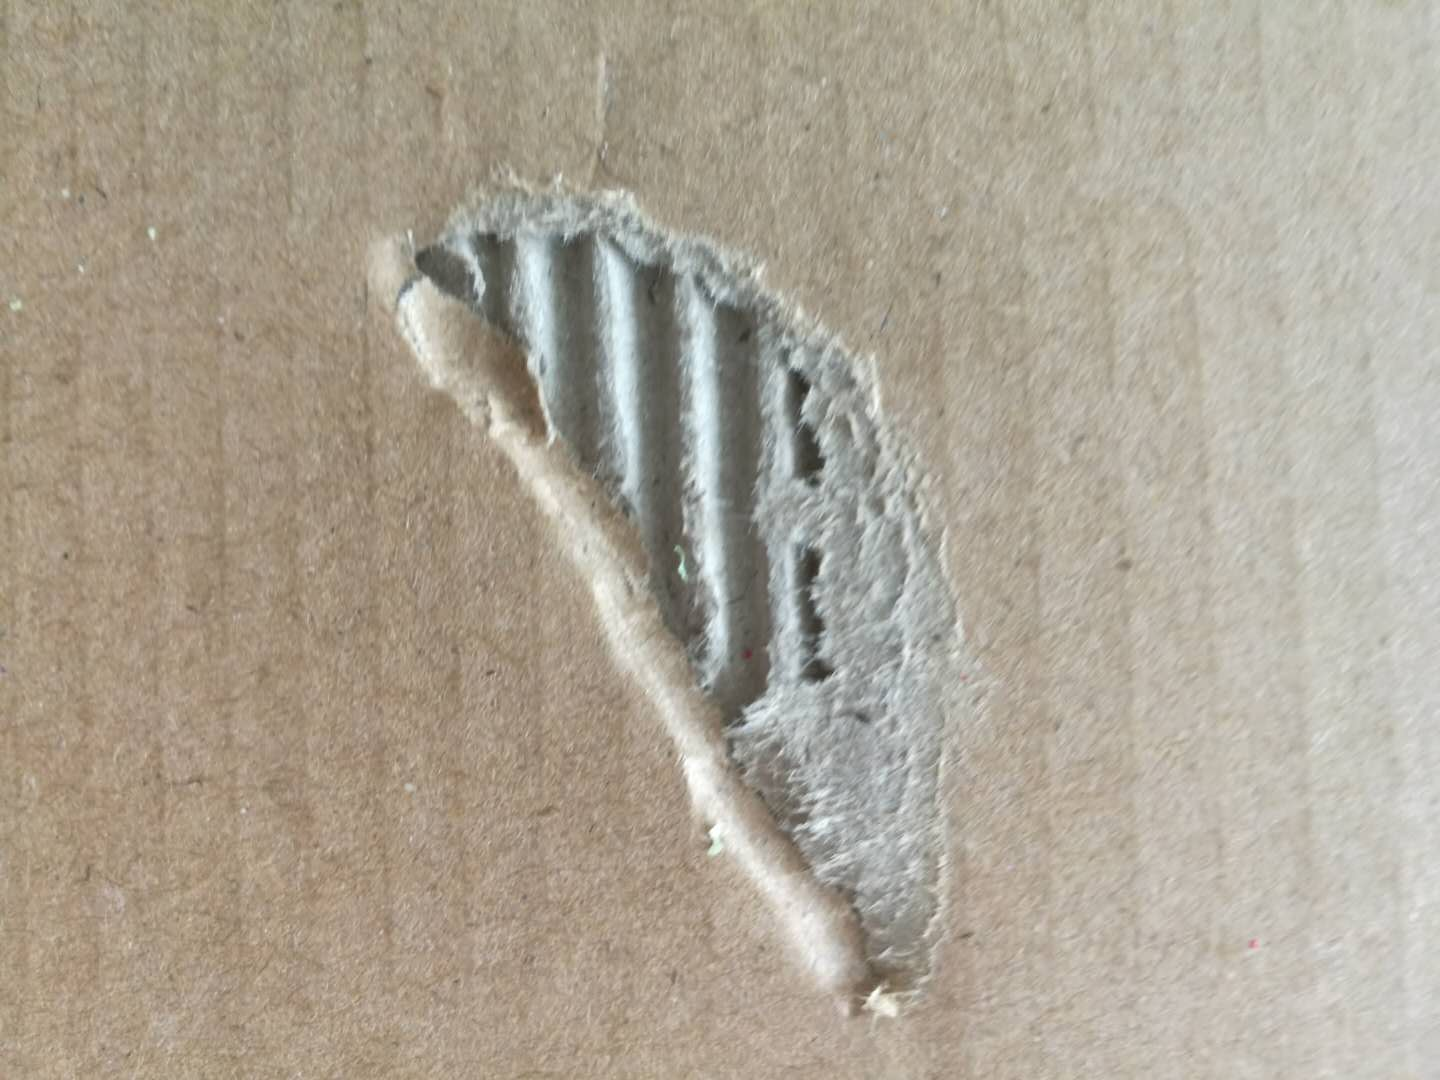defect: (337, 140, 1051, 1035)
